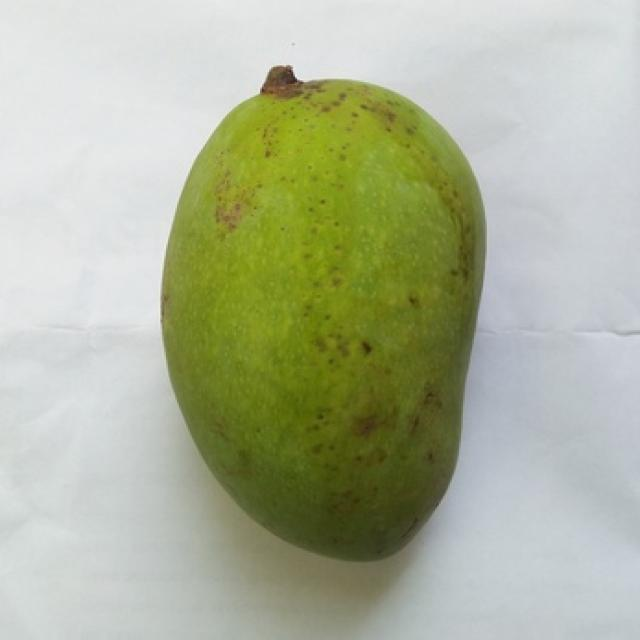Mango: (162, 67, 481, 560)
